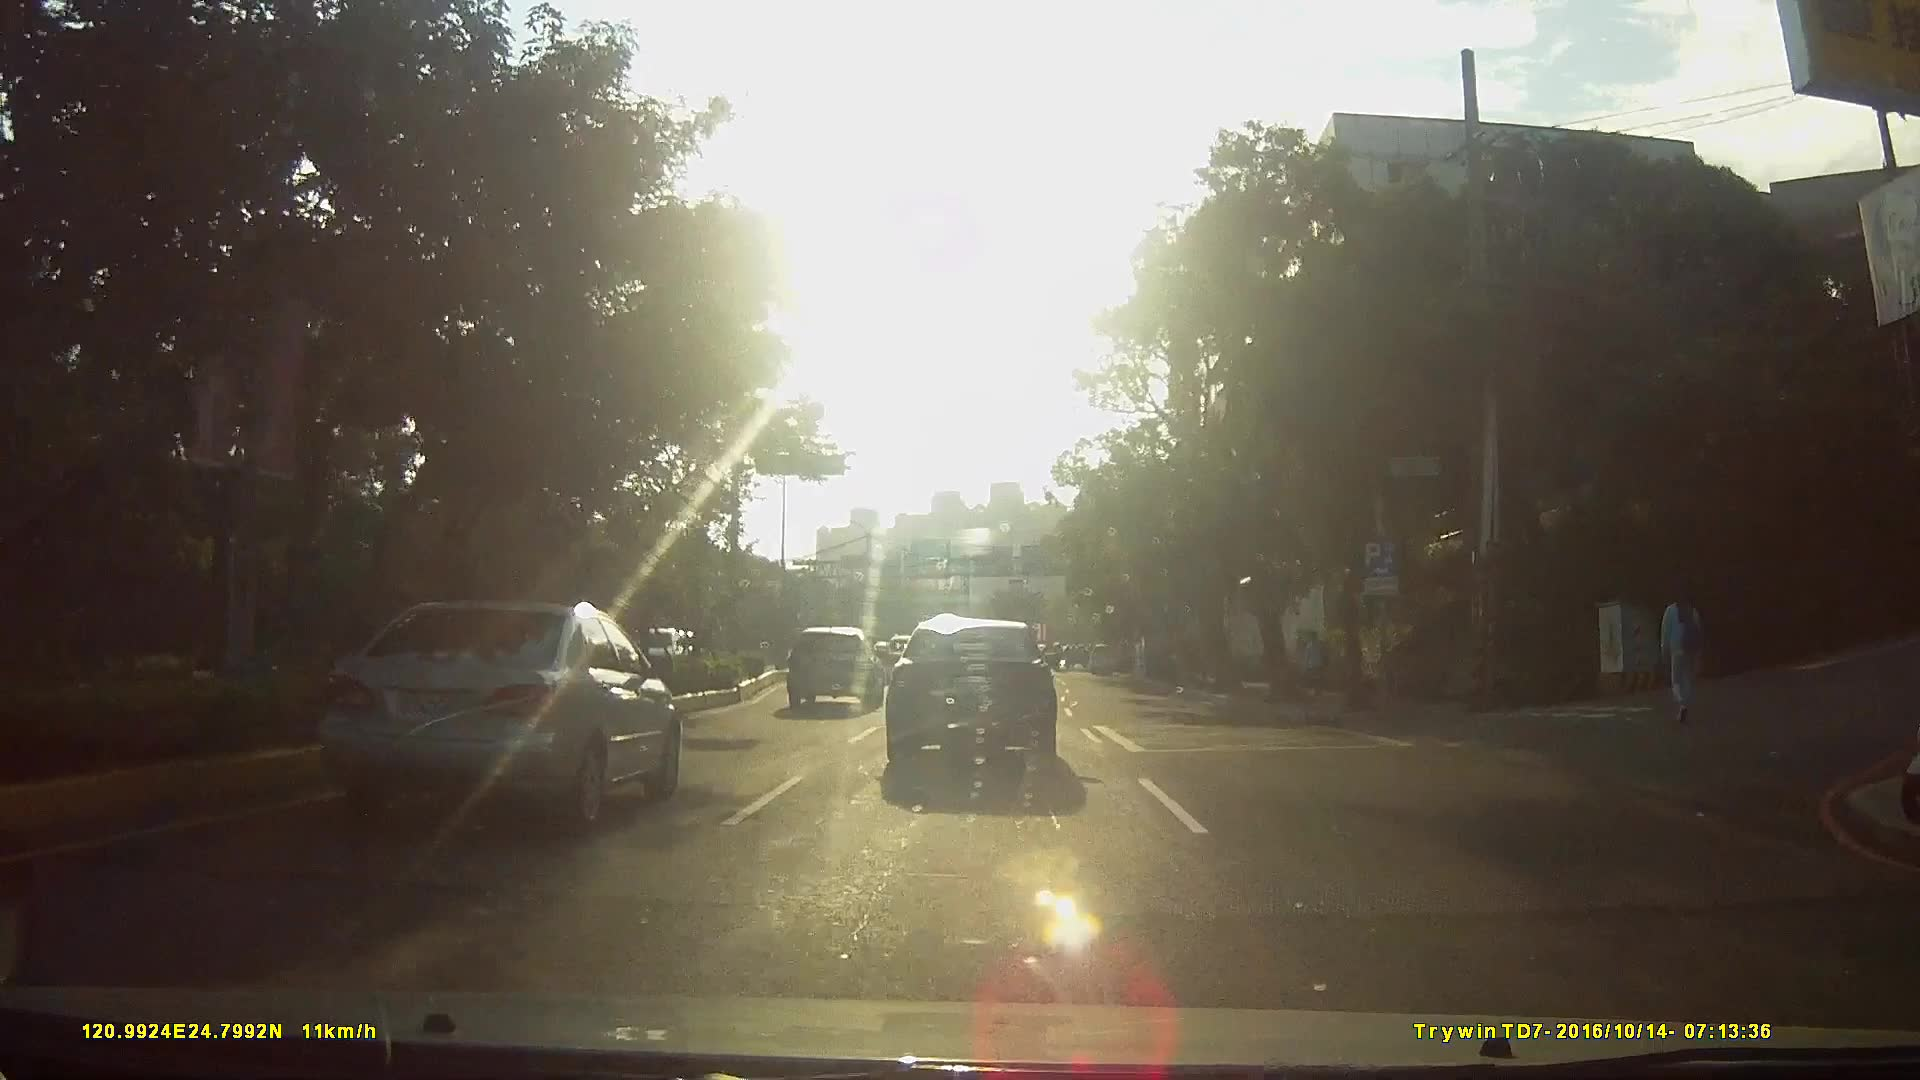pedestrian: (1656, 582, 1711, 726)
vehicle: (308, 597, 683, 826), (874, 616, 1073, 783), (782, 626, 883, 712), (1082, 643, 1116, 677)
